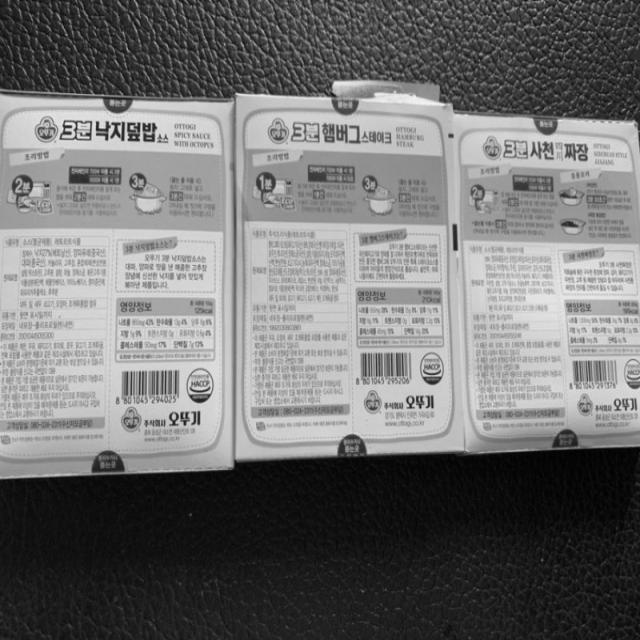Nutrition Label: (112, 297, 225, 371)
